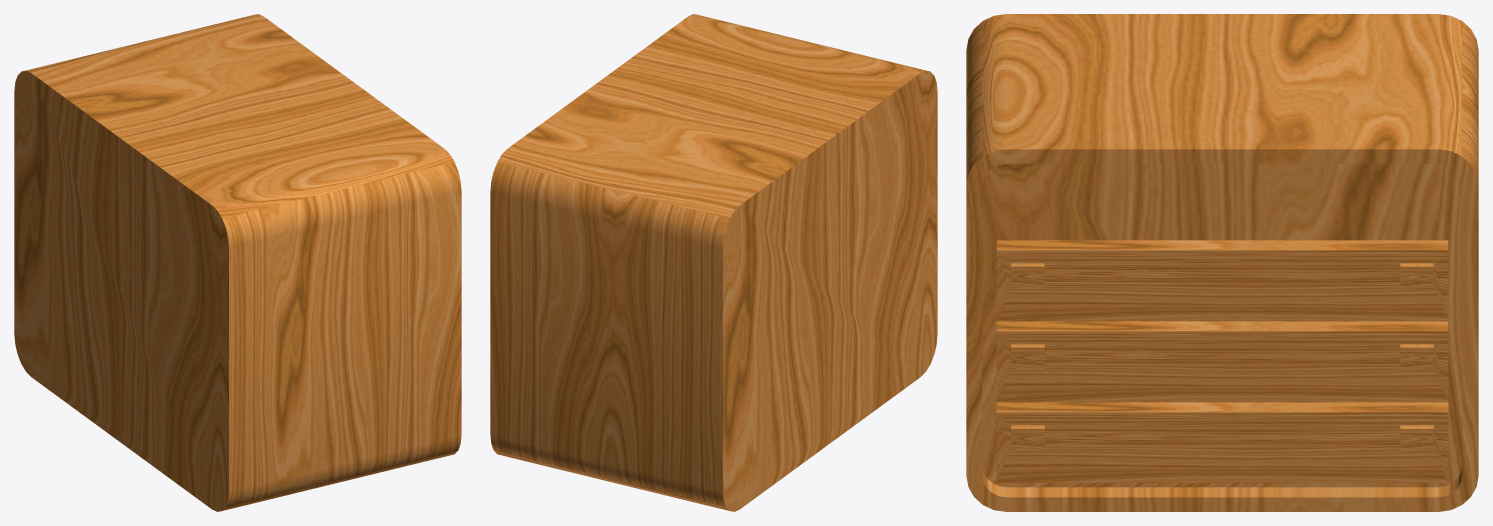
File: Dresser.fbx
3 renders of one model, left to right at view 1: azimuth 30°, elevation 25°; view 2: azimuth 150°, elevation 25°; view 3: azimuth 270°, elevation 25°, orthographic. The views are drawn at different scales.
Visible parts, largest first — view 1: Dresser; view 2: Dresser; view 3: Dresser.
Part boxes in pixels (x1=…): Dresser: x1=14, y1=14, x2=461, y2=511; Dresser: x1=490, y1=14, x2=937, y2=511; Dresser: x1=966, y1=14, x2=1478, y2=511.
Size of the model in its own units: 205 by 250 by 320.
1 material, 1 textured.
